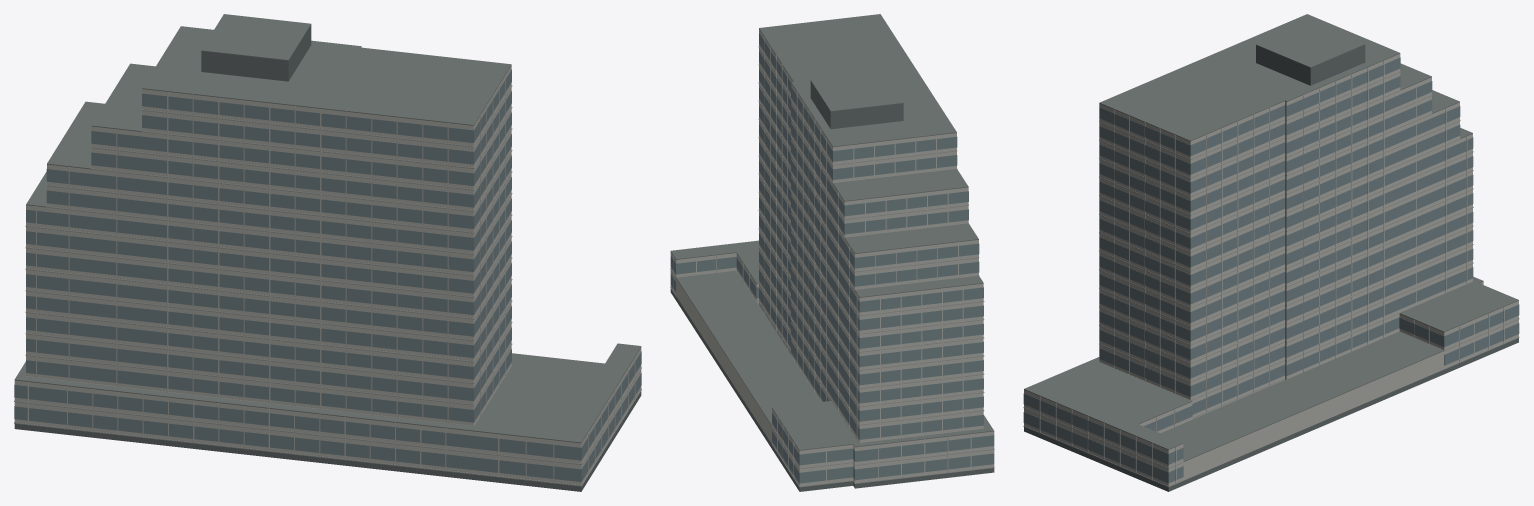
The model's file is glen-erin-2026-plan-study.glb.
The picture shows the model from 3 angles, left to right: view 1: azimuth 30°, elevation 25°; view 2: azimuth 150°, elevation 25°; view 3: azimuth 270°, elevation 25°; orthographic projection. The views are drawn at different scales.
Parts seen in each view (by area): view 1: glen-erin-2026-glass, glen-erin-2026-wall, glen-erin-2026-roof, glen-erin-2026-slab, glen-erin-2026-dark; view 2: glen-erin-2026-glass, glen-erin-2026-wall, glen-erin-2026-roof, glen-erin-2026-slab, glen-erin-2026-dark; view 3: glen-erin-2026-glass, glen-erin-2026-wall, glen-erin-2026-roof, glen-erin-2026-slab, glen-erin-2026-dark.
Part boxes in pixels (x1,y1,x2,y2): glen-erin-2026-glass: [14, 69, 641, 481]; glen-erin-2026-wall: [14, 47, 641, 485]; glen-erin-2026-roof: [14, 14, 641, 443]; glen-erin-2026-slab: [14, 85, 641, 486]; glen-erin-2026-dark: [14, 25, 641, 491]; glen-erin-2026-glass: [670, 33, 994, 483]; glen-erin-2026-wall: [670, 29, 994, 486]; glen-erin-2026-roof: [670, 14, 993, 450]; glen-erin-2026-slab: [670, 46, 994, 487]; glen-erin-2026-dark: [670, 81, 994, 491]; glen-erin-2026-glass: [1023, 57, 1519, 483]; glen-erin-2026-wall: [1024, 54, 1518, 486]; glen-erin-2026-roof: [1024, 14, 1518, 461]; glen-erin-2026-slab: [1023, 71, 1519, 487]; glen-erin-2026-dark: [1024, 45, 1518, 491].
Bounding box in the file's own units: 78.99 × 55.52 × 77.89.
